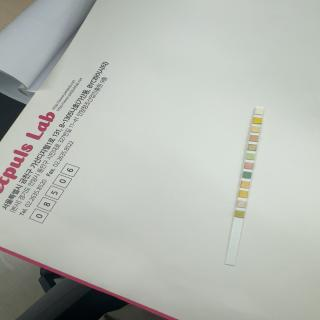mark: (240, 181, 250, 188), (235, 210, 244, 217), (237, 200, 246, 207), (239, 190, 248, 197), (244, 162, 253, 169), (242, 172, 252, 178), (246, 153, 255, 159), (255, 109, 264, 115), (248, 144, 256, 150), (250, 135, 258, 141), (252, 127, 260, 132), (254, 118, 262, 123)
